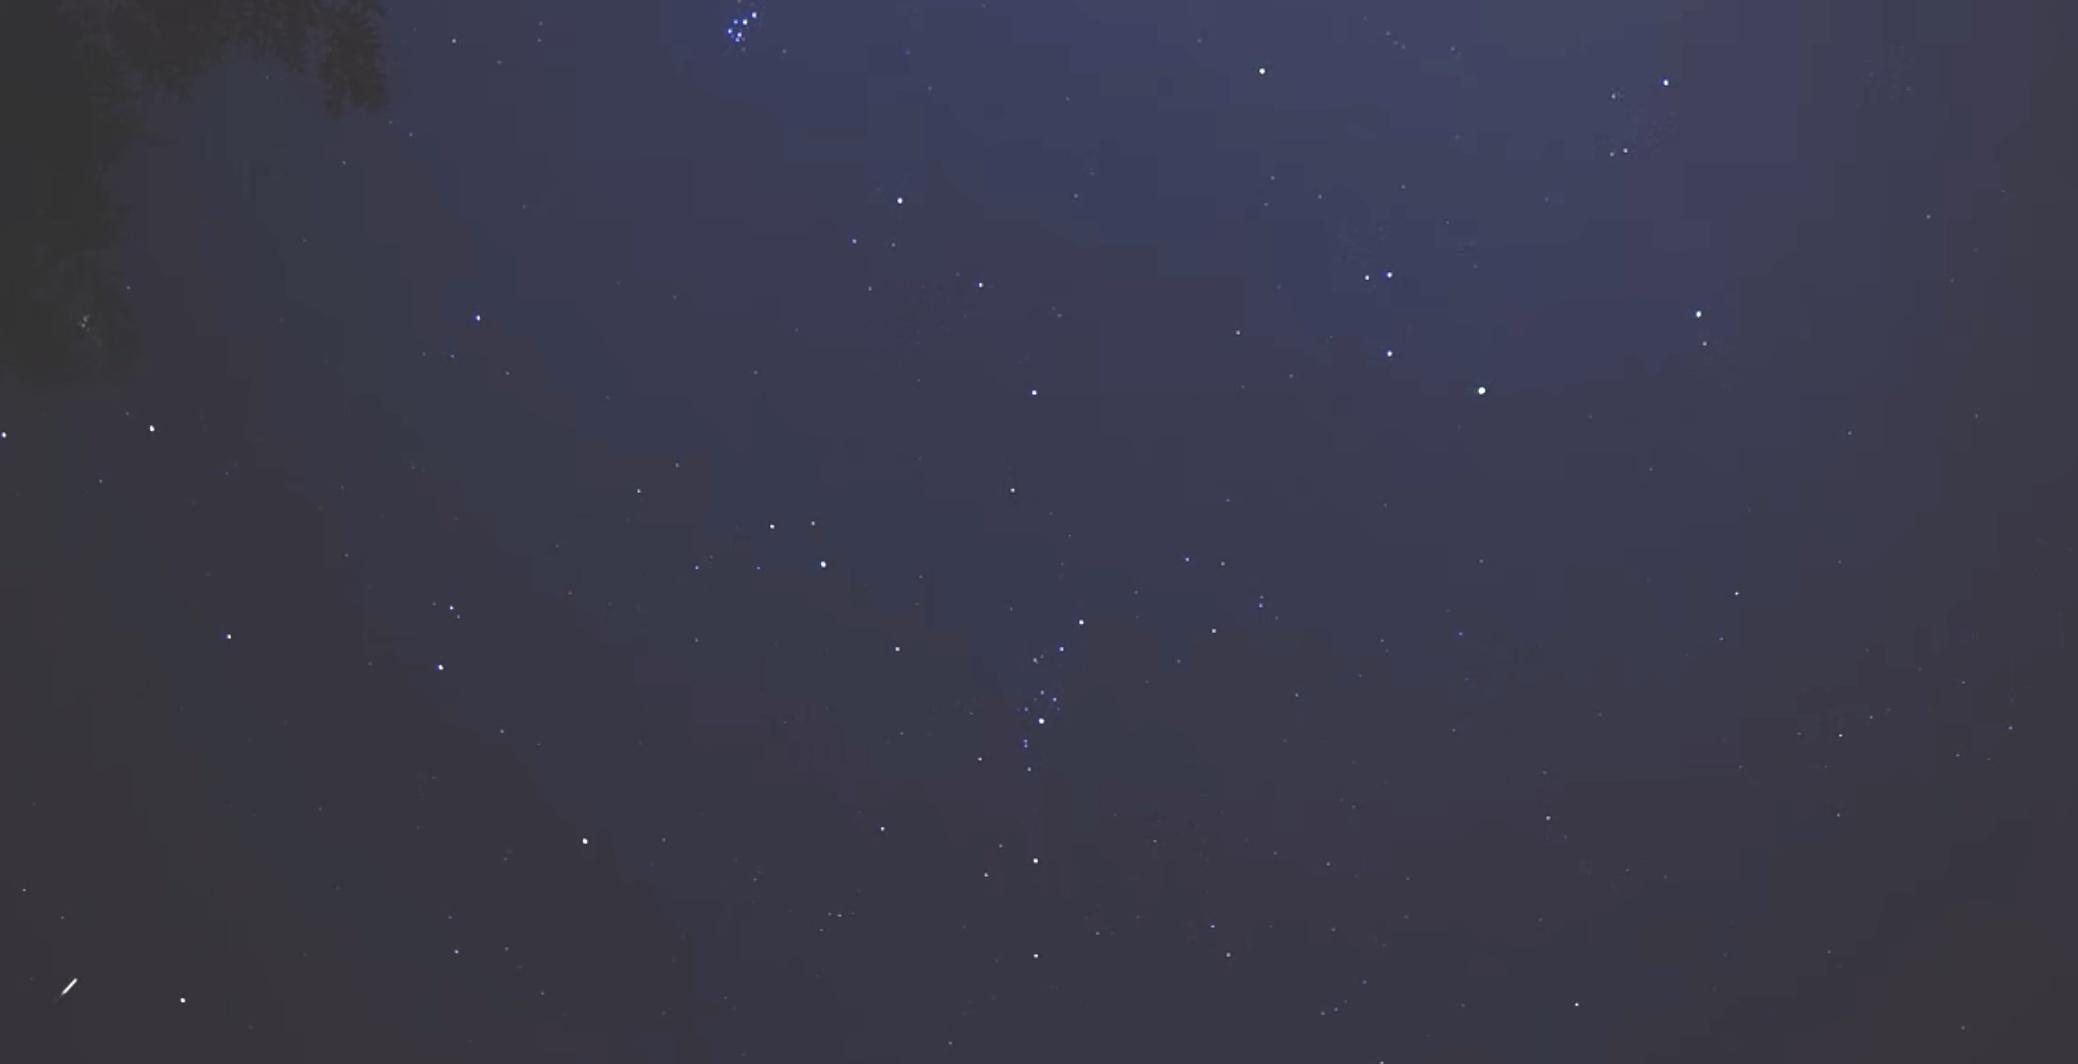meteorite: (9, 969, 130, 1006)
